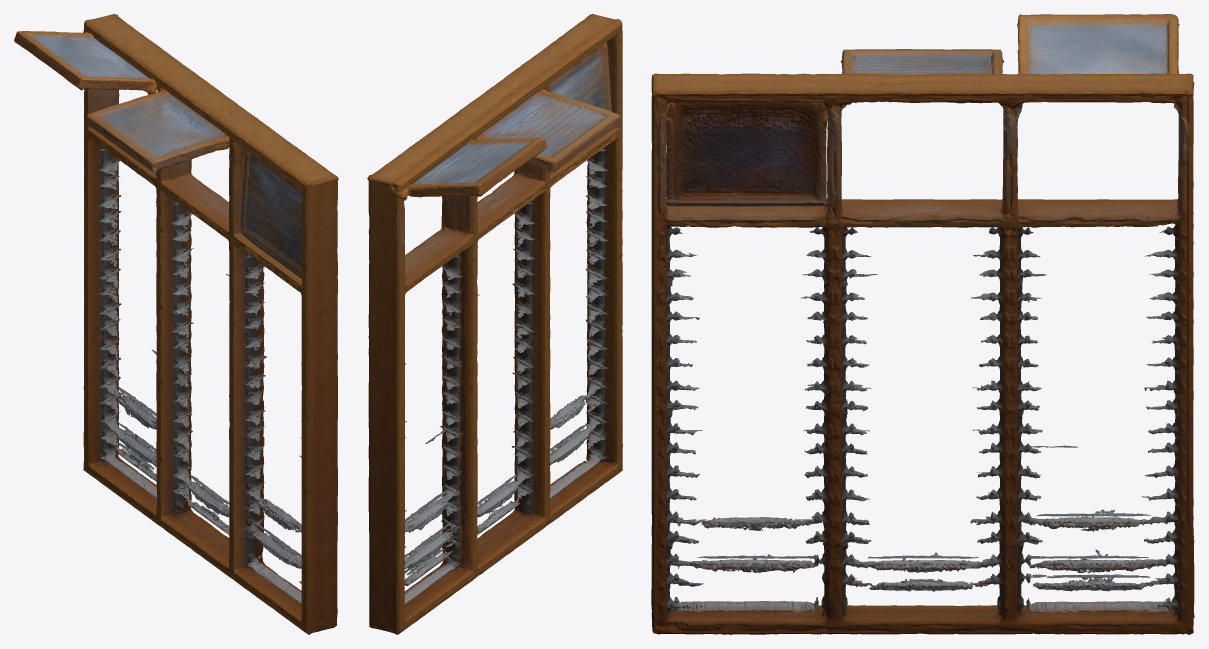
3 views of the same model, side by side, from view 1: azimuth 30°, elevation 25°; view 2: azimuth 150°, elevation 25°; view 3: azimuth 270°, elevation 25° (orthographic). The views are drawn at different scales.
Parts seen in each view (by area): view 1: part_0, part_1, part_2, part_3; view 2: part_0, part_1, part_3, part_2; view 3: part_0, part_2, part_3, part_1.
Part boxes in pixels (x1,y1,x2,y2): part_0: (83,14,338,634); part_1: (86,72,229,172); part_2: (240,150,301,278); part_3: (14,30,156,94); part_0: (367,14,622,634); part_1: (460,86,619,172); part_3: (389,137,547,200); part_2: (549,42,611,111); part_0: (651,73,1194,634); part_2: (666,102,827,206); part_3: (1017,14,1194,89); part_1: (841,49,1008,103).
Size of the model in its own units: 0.3792 by 1.53 by 1.34.
